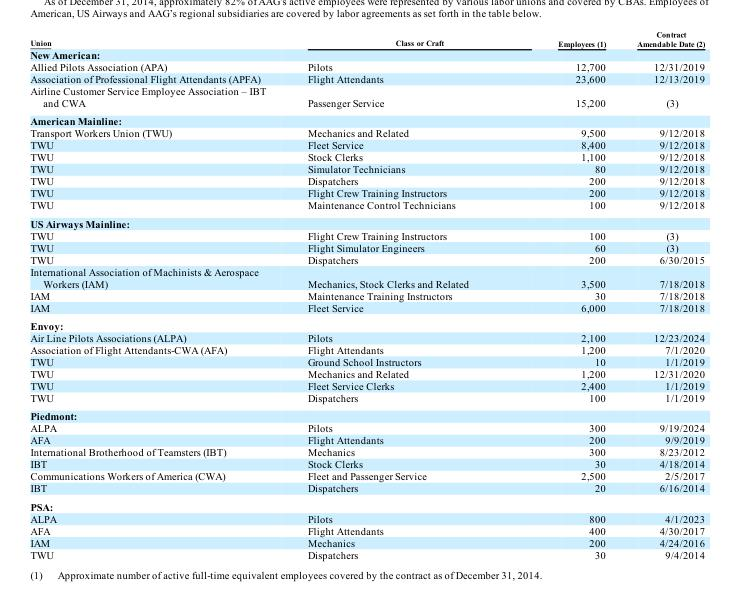table: (29, 29, 704, 559)
table column: (29, 29, 286, 559), (286, 29, 512, 559), (512, 29, 620, 559), (620, 29, 704, 559)
table column header: (29, 29, 704, 48)
table projected row header: (29, 213, 704, 229), (29, 111, 704, 126), (29, 316, 704, 331), (29, 406, 704, 421), (29, 497, 704, 512), (29, 48, 704, 60)
table row: (29, 84, 704, 111), (29, 265, 704, 289), (29, 29, 704, 48), (29, 213, 704, 229), (29, 481, 704, 497), (29, 111, 704, 126), (29, 198, 704, 213), (29, 301, 704, 316), (29, 316, 704, 331), (29, 391, 704, 406), (29, 406, 704, 421), (29, 497, 704, 512), (29, 48, 704, 60), (29, 60, 704, 72), (29, 72, 704, 84), (29, 126, 704, 138), (29, 138, 704, 150), (29, 150, 704, 162), (29, 162, 704, 174), (29, 174, 704, 186), (29, 186, 704, 198), (29, 229, 704, 241), (29, 241, 704, 253), (29, 253, 704, 265), (29, 289, 704, 301), (29, 331, 704, 343), (29, 343, 704, 355), (29, 355, 704, 367), (29, 367, 704, 379), (29, 379, 704, 391), (29, 421, 704, 433), (29, 433, 704, 445), (29, 445, 704, 457), (29, 457, 704, 469), (29, 469, 704, 481), (29, 512, 704, 524), (29, 524, 704, 536), (29, 536, 704, 548), (29, 548, 704, 559)
